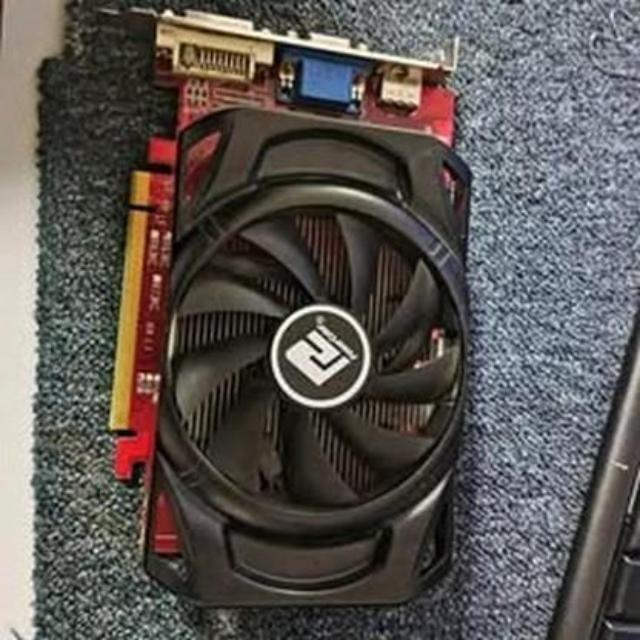GPU: (106, 0, 468, 614)
